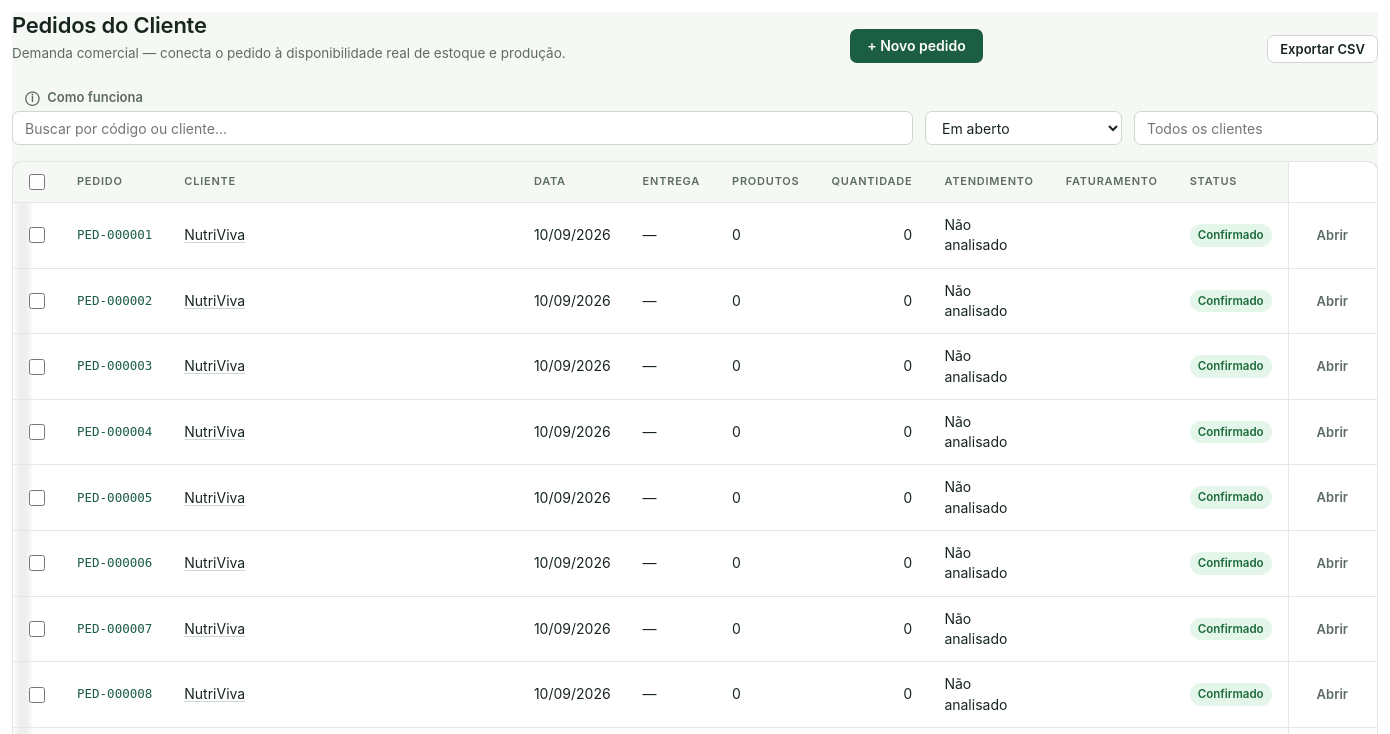
Test: ações documentais na barra da seleção › IDS: o PDF sai de UM pedido ao servidor, UM arquivo, e a seleção fica
Step 1. Click the checkbox named "Selecionar pedido PED-000002" → (37, 301), box [29,293,45,309]
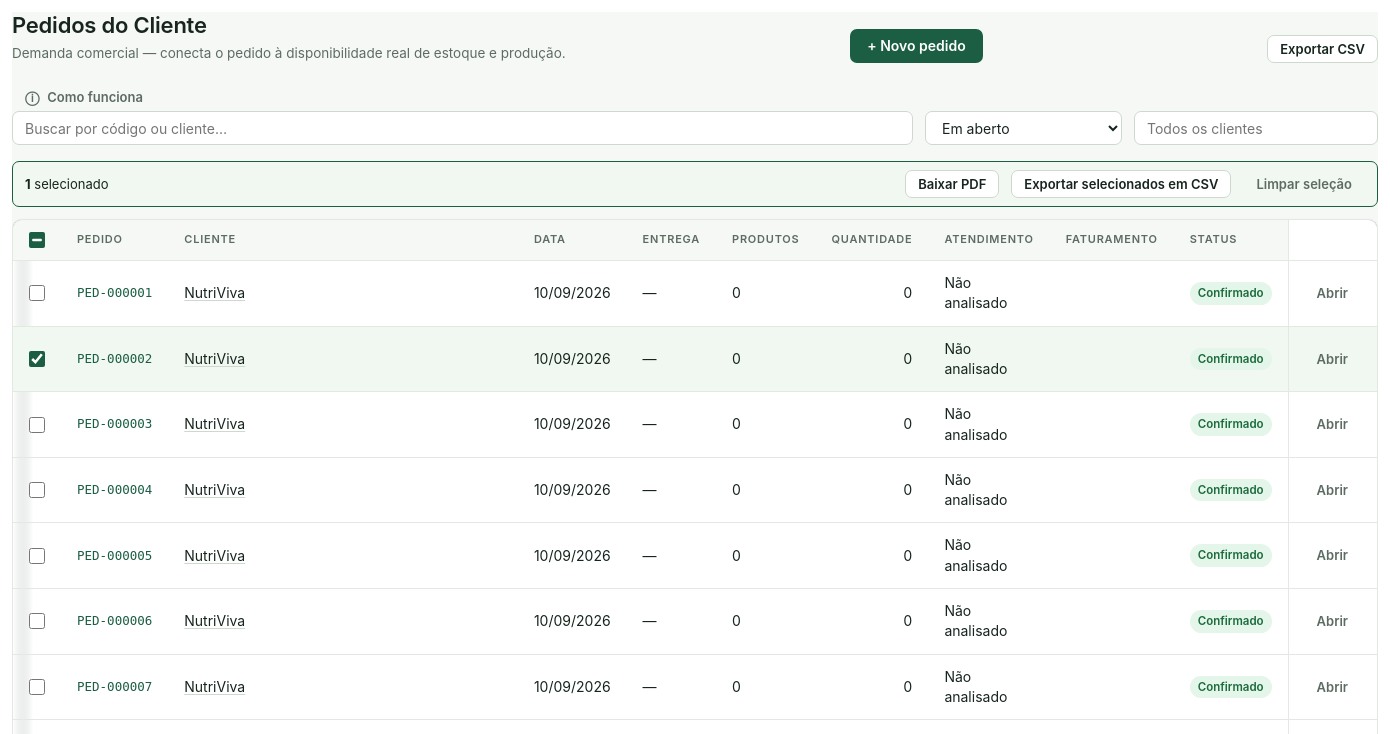
Step 2. Click the checkbox named "Selecionar pedido PED-000005" → (37, 556), box [29,548,45,564]
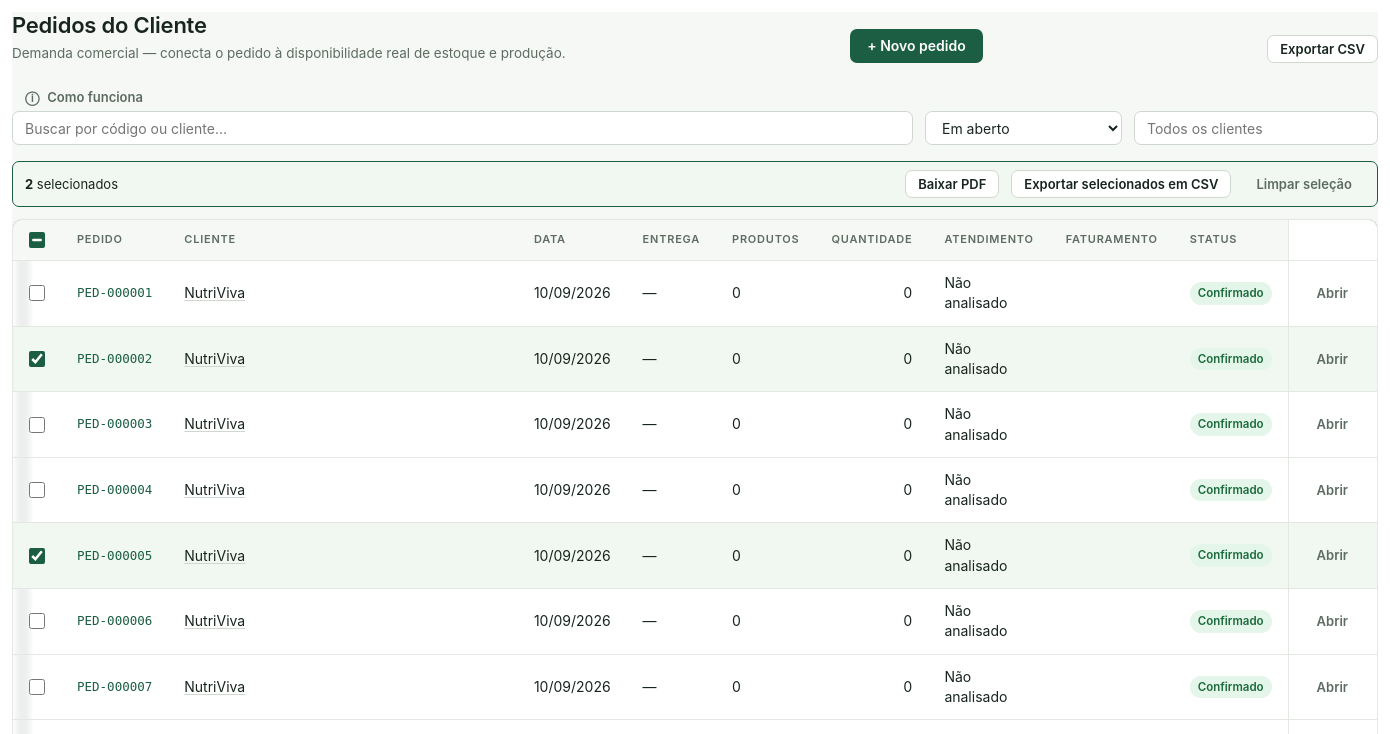
Step 3. Click the button "Baixar PDF" → (952, 184), box [905,170,999,198]
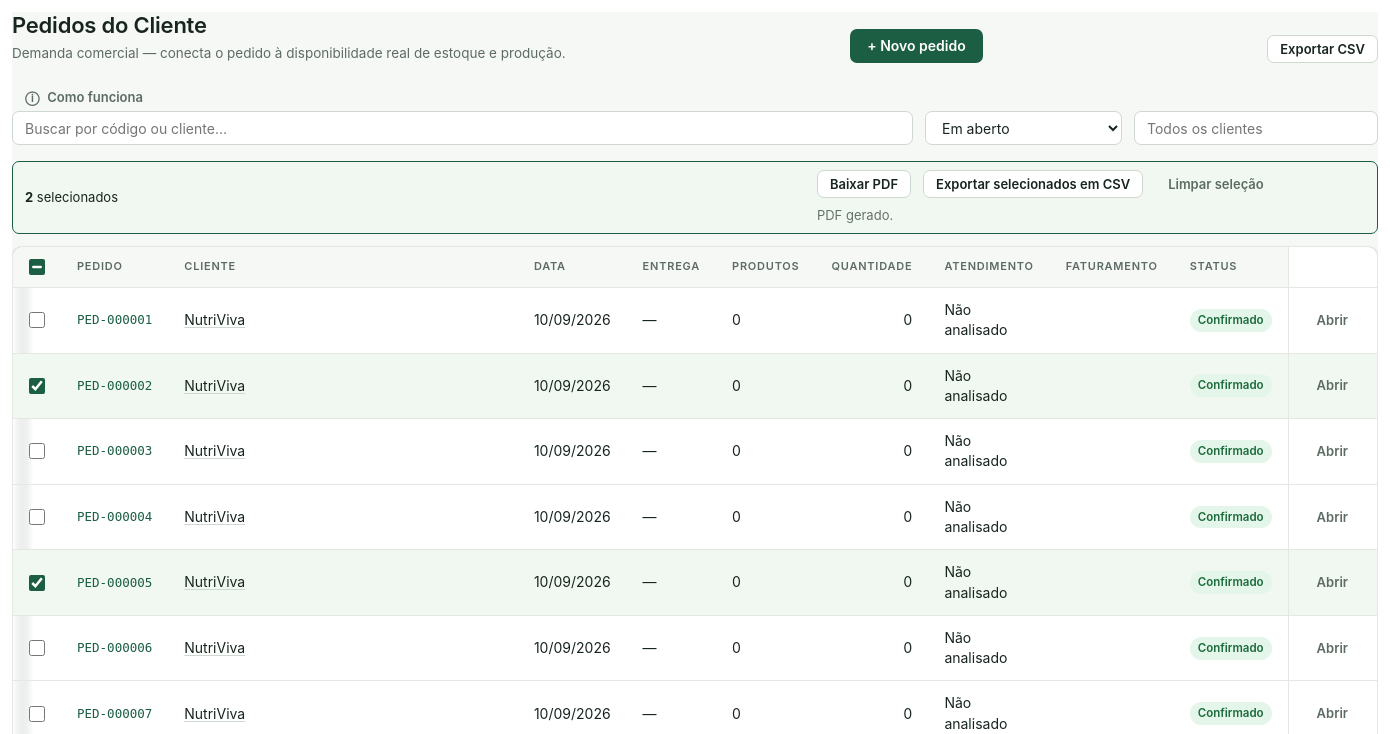
Result: the element with class "bulk-bar__count" reads "2 selecionados" at [25,188,118,207]
Result: the message reads "PDF gerado." at [817,207,893,223]
